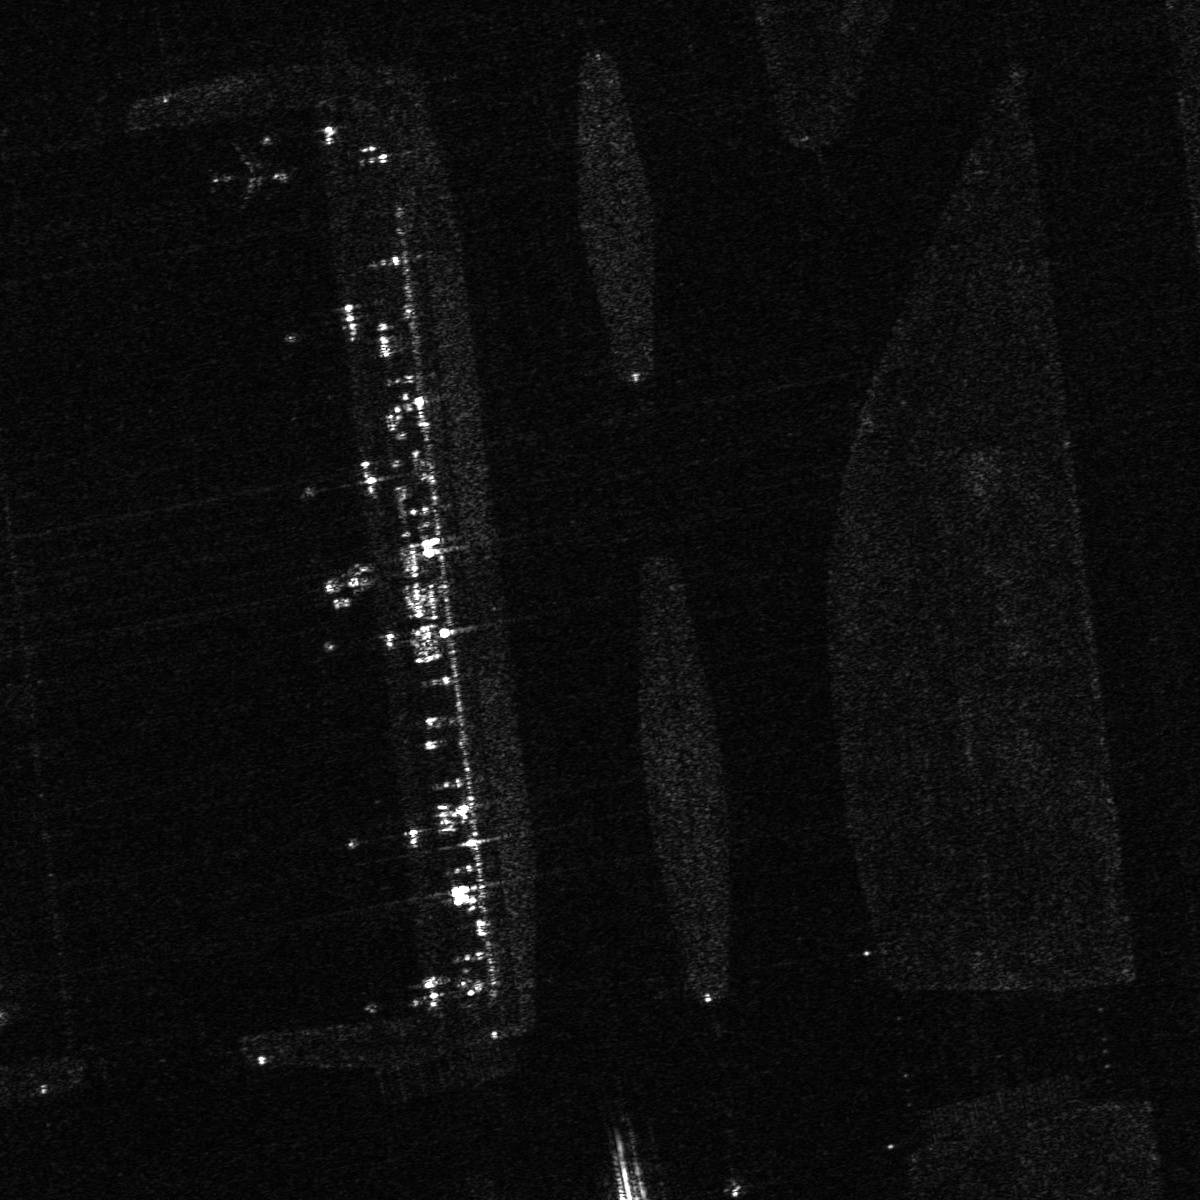Boeing737: (202, 142, 297, 218)
